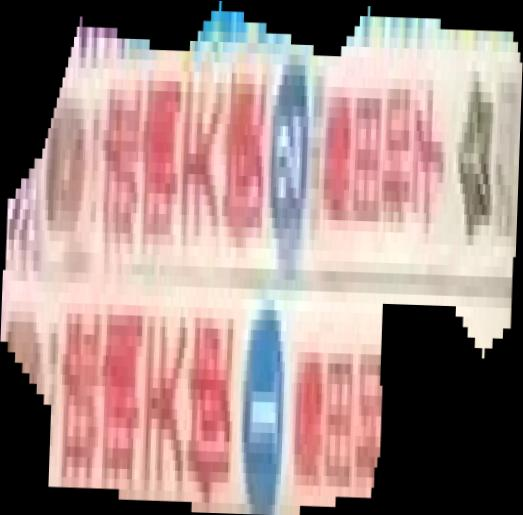flat: (1, 1, 523, 515)
